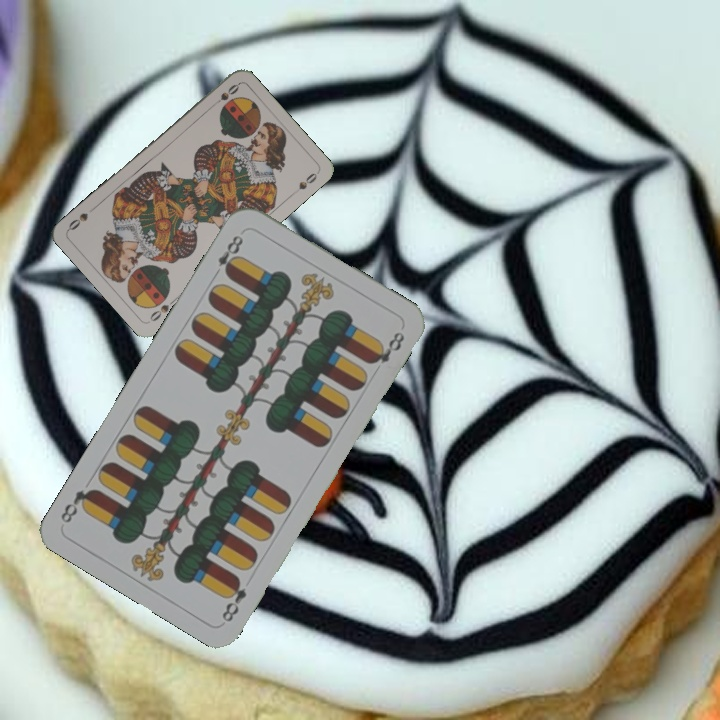E8: (209, 231, 246, 280), (217, 573, 250, 625)
SO: (207, 80, 242, 110), (146, 294, 179, 324)
